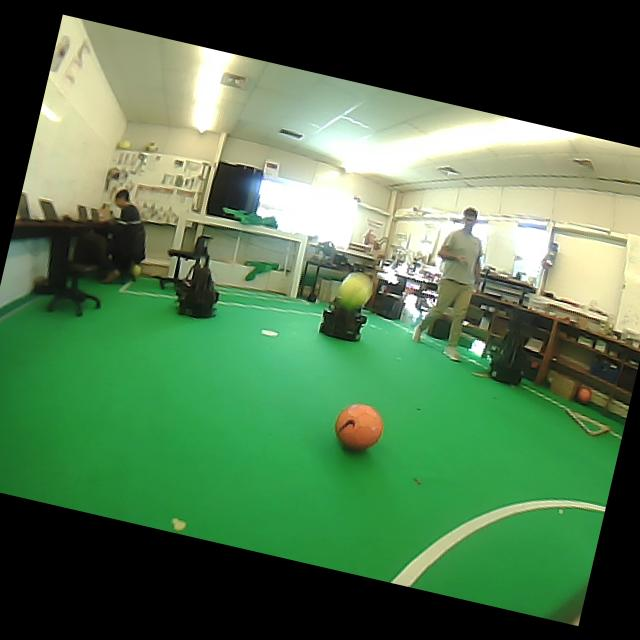ball: (334, 403, 383, 450), (338, 273, 372, 309), (575, 385, 592, 404), (130, 263, 141, 279), (117, 140, 131, 149), (144, 142, 156, 151)
goal: (289, 235, 307, 297)
robot: (175, 235, 217, 317), (488, 313, 524, 384), (319, 303, 367, 341)
